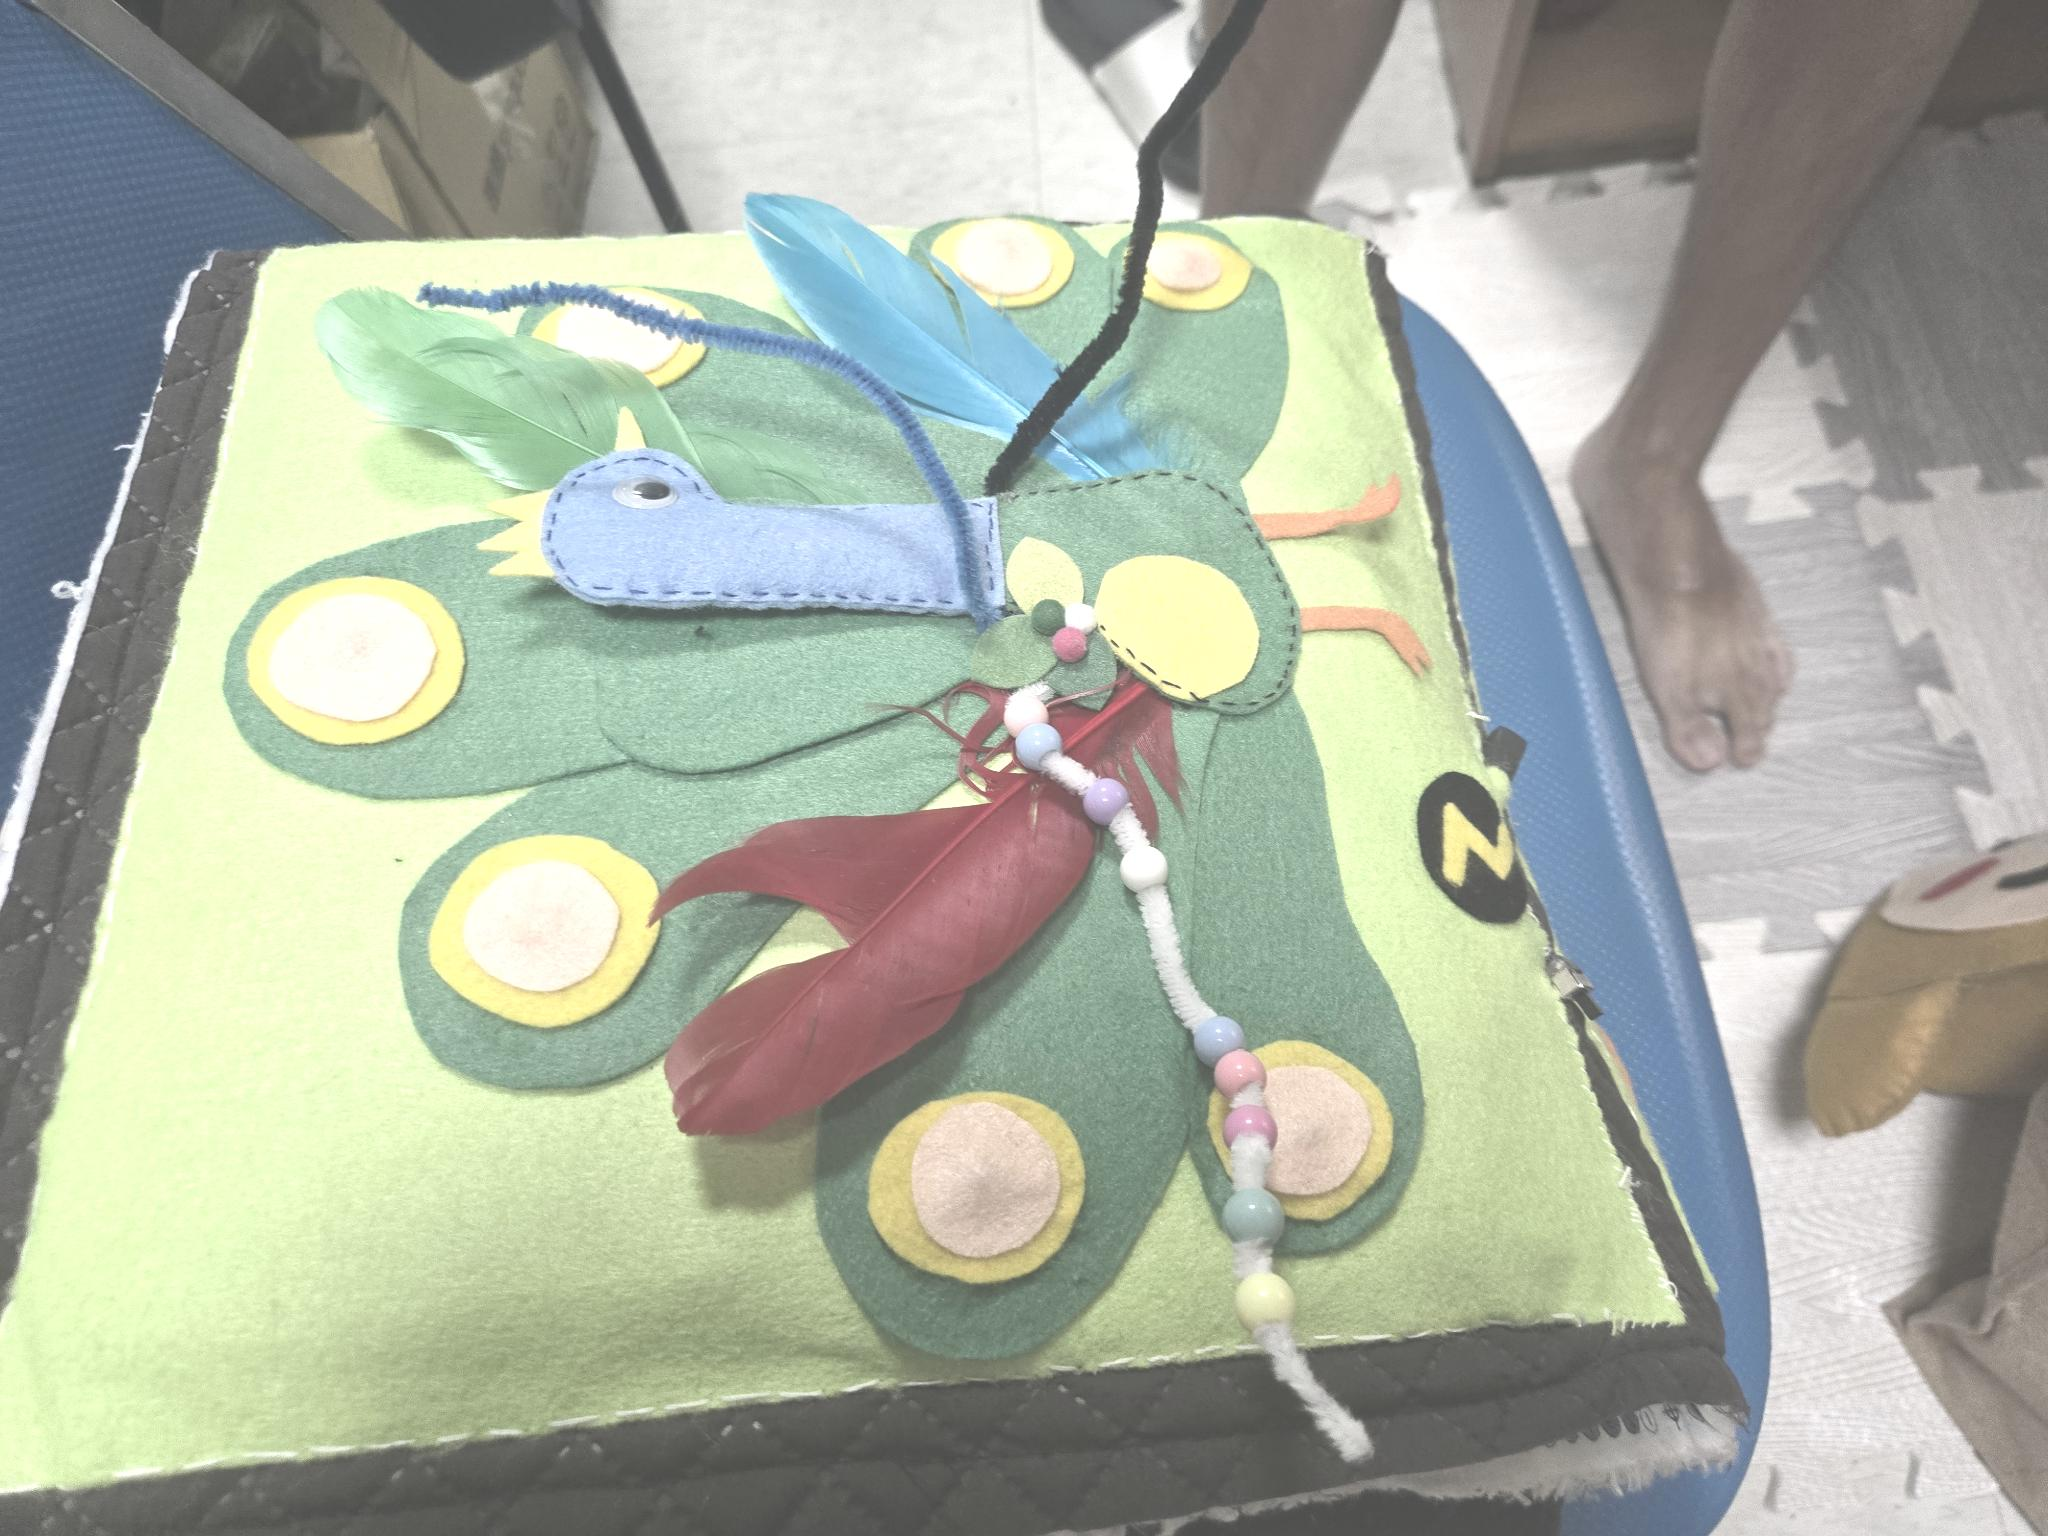bead: (1105, 828, 1187, 902), (1214, 1170, 1287, 1246), (1227, 1267, 1295, 1341), (1208, 1097, 1290, 1146), (1208, 1041, 1269, 1102), (1179, 1007, 1247, 1060), (1076, 763, 1124, 833), (1003, 718, 1064, 771), (995, 684, 1055, 737)
